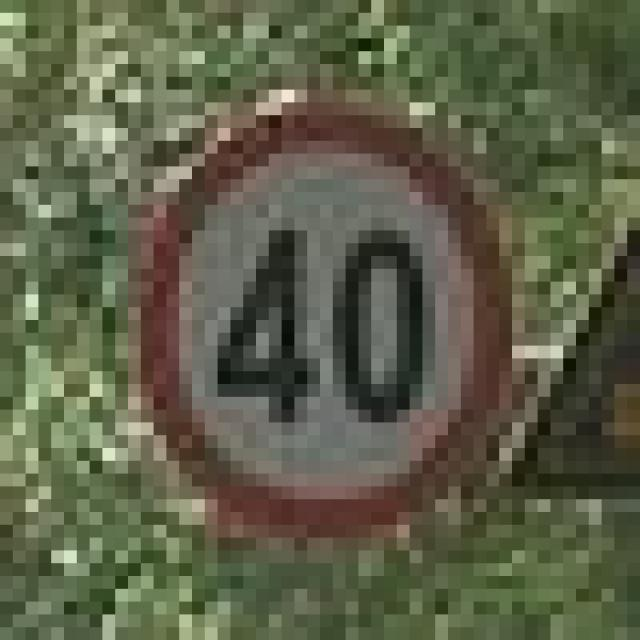SPEED_LIMIT_40: (115, 90, 512, 524)
